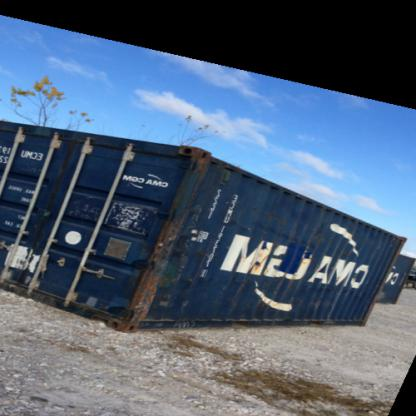Damage: (119, 258, 162, 320), (257, 217, 317, 254), (158, 203, 195, 254), (107, 195, 154, 235), (292, 290, 338, 316), (68, 194, 102, 224), (179, 141, 210, 168), (249, 252, 268, 276)
